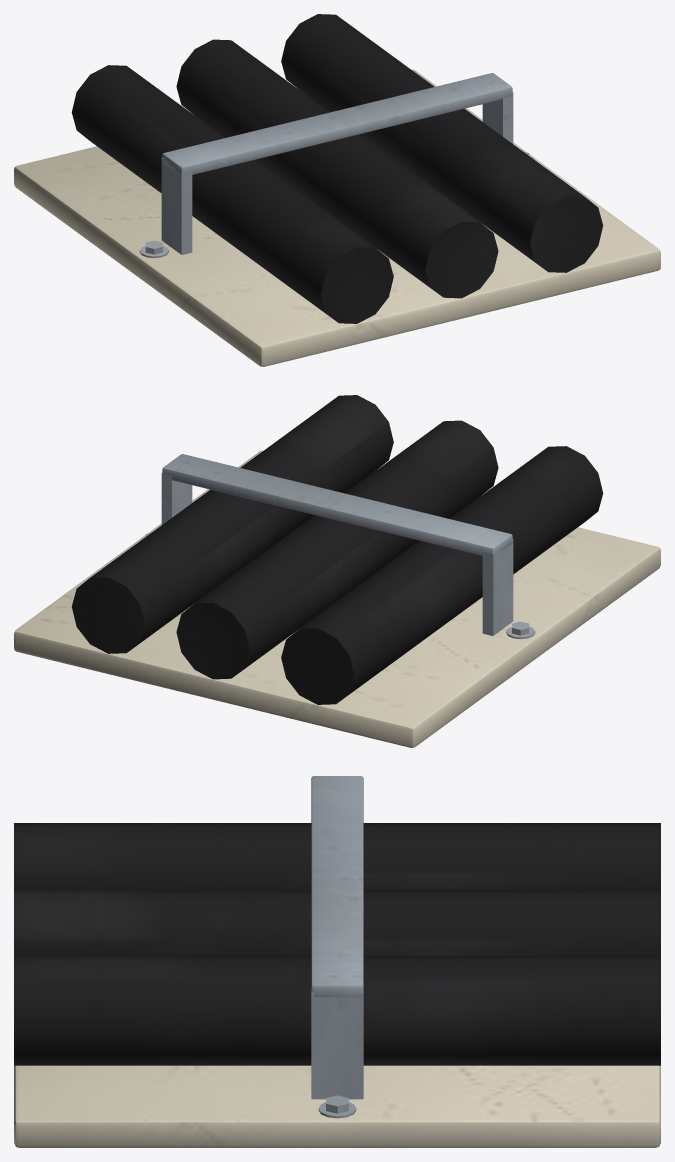
Rendered from wires_short.glb.
The picture shows the model from 3 angles, top to bottom: view 1: azimuth 30°, elevation 25°; view 2: azimuth 150°, elevation 25°; view 3: azimuth 270°, elevation 25°; orthographic projection. The views are drawn at different scales.
Visible parts, largest first — view 1: Body; view 2: Body; view 3: Body.
Boxes of the visible parts, x1,y1,x2,y2 form: Body: [14, 14, 660, 366]; Body: [14, 395, 660, 747]; Body: [14, 776, 660, 1147].
Size of the model in its own units: 0.23 by 0.06 by 0.247.
Materials: 3 (3 with a texture image).
